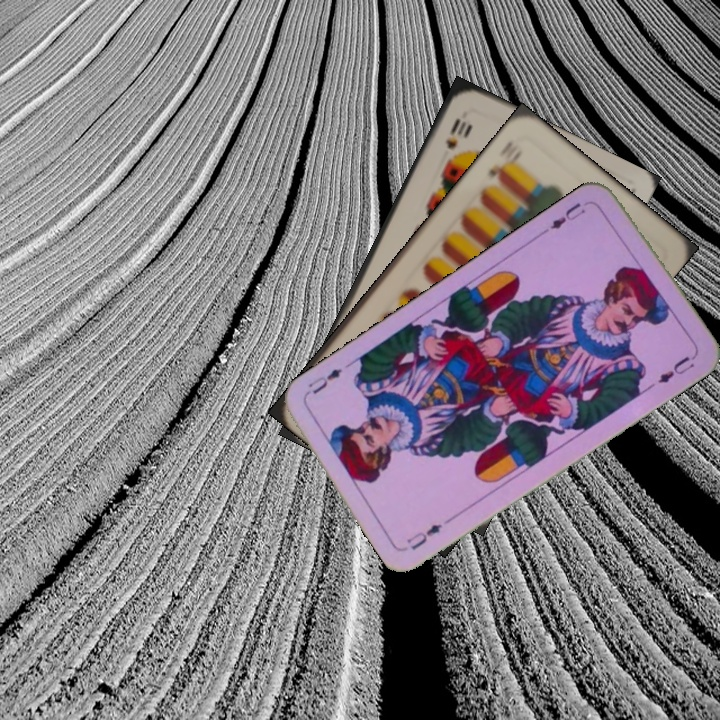E10: (483, 140, 521, 184)
EU: (403, 513, 455, 553), (546, 198, 589, 232)
S10: (441, 114, 469, 152)
